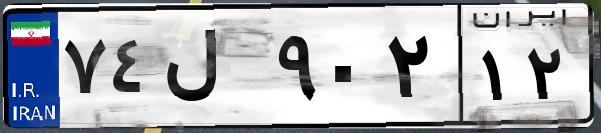0: (330, 28, 385, 110)
1: (475, 38, 525, 113)
2: (385, 28, 445, 110), (525, 38, 570, 115)
4: (110, 28, 158, 98)
7: (57, 26, 110, 100)
9: (270, 28, 330, 110)
ل: (158, 20, 270, 120)
